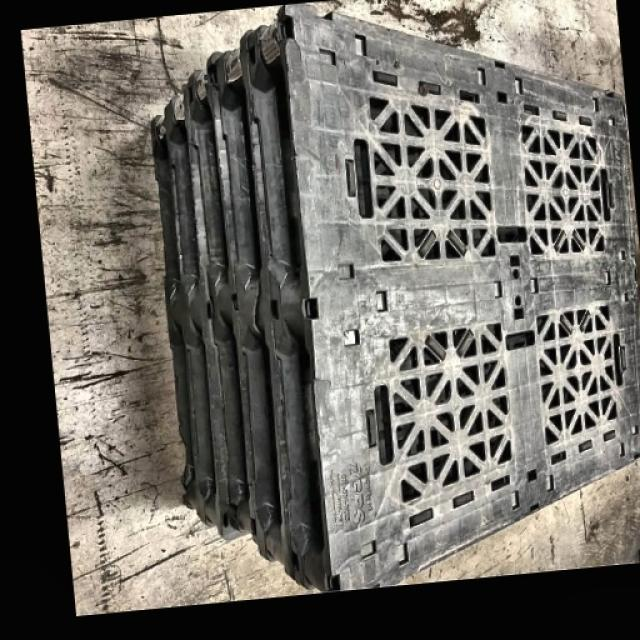igps: (236, 0, 640, 599)
